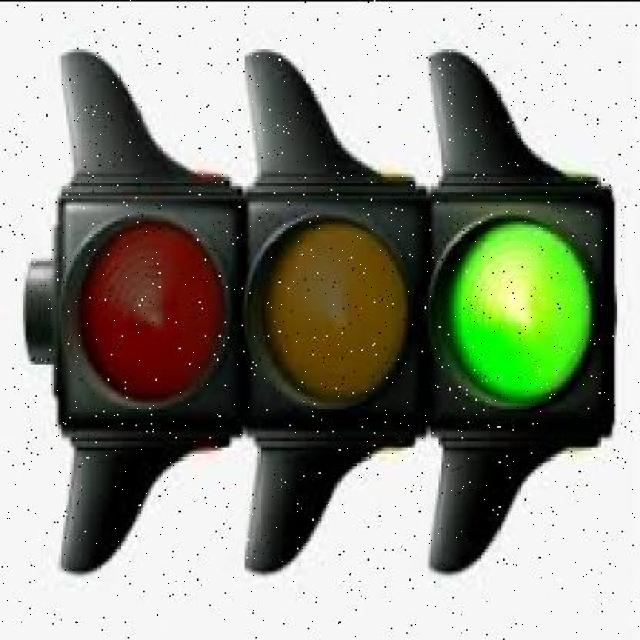green-light: (26, 163, 640, 505)
